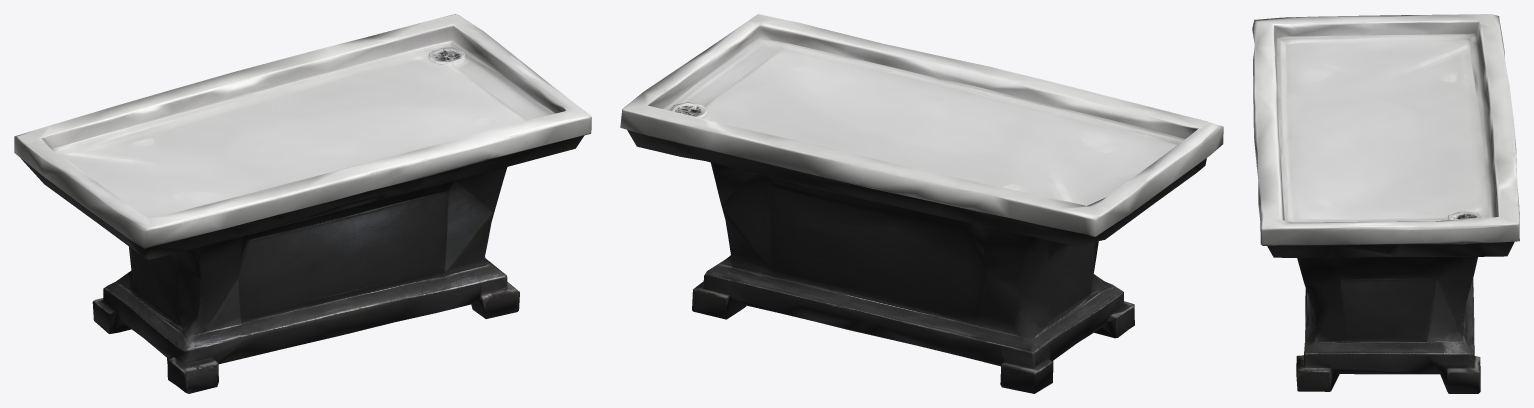
Rendered from morgue_table_clean.glb.
3 views of the same model, side by side, from view 1: azimuth 30°, elevation 25°; view 2: azimuth 150°, elevation 25°; view 3: azimuth 270°, elevation 25° (orthographic). The views are drawn at different scales.
Parts seen in each view (by area): view 1: tripo_node_c8f608c9-654d-4dd2-979c-74b357bbf16b; view 2: tripo_node_c8f608c9-654d-4dd2-979c-74b357bbf16b; view 3: tripo_node_c8f608c9-654d-4dd2-979c-74b357bbf16b.
Part boxes in pixels (bbox=[...]): tripo_node_c8f608c9-654d-4dd2-979c-74b357bbf16b: bbox=[14, 14, 591, 393]; tripo_node_c8f608c9-654d-4dd2-979c-74b357bbf16b: bbox=[620, 14, 1223, 393]; tripo_node_c8f608c9-654d-4dd2-979c-74b357bbf16b: bbox=[1252, 14, 1519, 393].
Size of the model in its own units: 1 by 0.4208 by 0.5244.
Materials: 1 (1 with a texture image).
